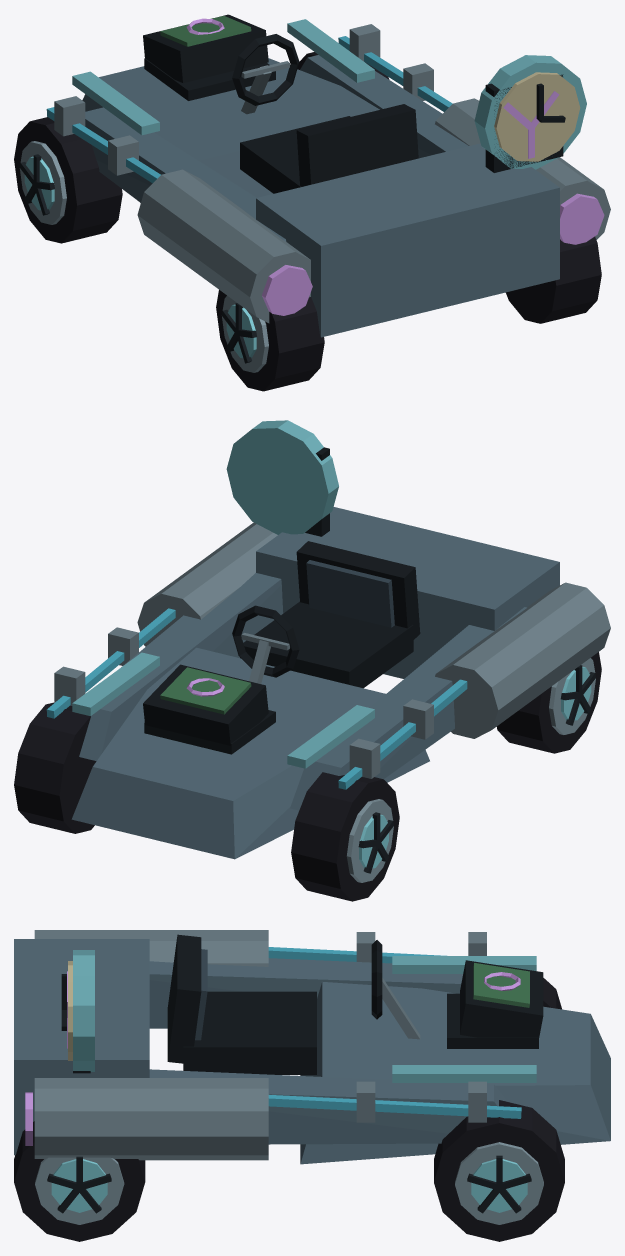
Rendered from kart.glb.
3 views of the same model, one above another, from view 1: azimuth 30°, elevation 25°; view 2: azimuth 150°, elevation 25°; view 3: azimuth 270°, elevation 25° (orthographic). The views are drawn at different scales.
Parts seen in each view (by area): view 1: identity-lab-pod-lab-pod-segmented-shell, identity-lab-pod-driver-cockpit, wheel-front-left, identity-lab-pod-motif-clock, wheel-rear-left, identity-lab-pod-motif-flux-coils, identity-lab-pod-motif-scanner, wheel-rear-right; view 2: identity-lab-pod-lab-pod-segmented-shell, identity-lab-pod-driver-cockpit, wheel-front-left, identity-lab-pod-motif-clock, wheel-front-right, identity-lab-pod-motif-flux-coils, identity-lab-pod-motif-scanner, wheel-rear-left; view 3: identity-lab-pod-lab-pod-segmented-shell, identity-lab-pod-driver-cockpit, wheel-front-right, wheel-rear-right, identity-lab-pod-motif-flux-coils, identity-lab-pod-motif-scanner, identity-lab-pod-motif-clock.
Part boxes in pixels (box(x1,y1,x2,y2)): identity-lab-pod-lab-pod-segmented-shell: box(72, 19, 610, 337); identity-lab-pod-driver-cockpit: box(232, 34, 418, 193); wheel-front-left: box(14, 117, 122, 243); identity-lab-pod-motif-clock: box(474, 55, 586, 169); wheel-rear-left: box(216, 290, 324, 391); identity-lab-pod-motif-flux-coils: box(46, 24, 563, 183); identity-lab-pod-motif-scanner: box(143, 14, 268, 83); wheel-rear-right: box(505, 236, 601, 323); identity-lab-pod-lab-pod-segmented-shell: box(71, 507, 610, 859); identity-lab-pod-driver-cockpit: box(232, 541, 420, 688); wheel-front-left: box(291, 772, 399, 901); identity-lab-pod-motif-clock: box(226, 420, 338, 534); wheel-front-right: box(14, 702, 96, 833); identity-lab-pod-motif-flux-coils: box(46, 447, 467, 789); identity-lab-pod-motif-scanner: box(143, 664, 268, 745); wheel-rear-left: box(496, 652, 601, 753); identity-lab-pod-lab-pod-segmented-shell: box(14, 930, 610, 1164); identity-lab-pod-driver-cockpit: box(167, 934, 420, 1074); wheel-front-right: box(434, 1100, 564, 1241); wheel-rear-right: box(14, 1121, 145, 1241); identity-lab-pod-motif-flux-coils: box(67, 932, 521, 1122); identity-lab-pod-motif-scanner: box(460, 960, 543, 1037); identity-lab-pod-motif-clock: box(61, 950, 94, 1071).
Bounding box in the file's own units: 1.98 × 1.35 × 2.73.
